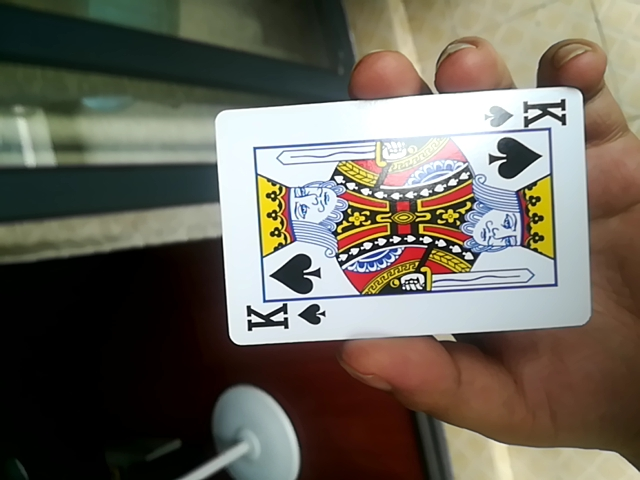ht k: (214, 86, 593, 355)
